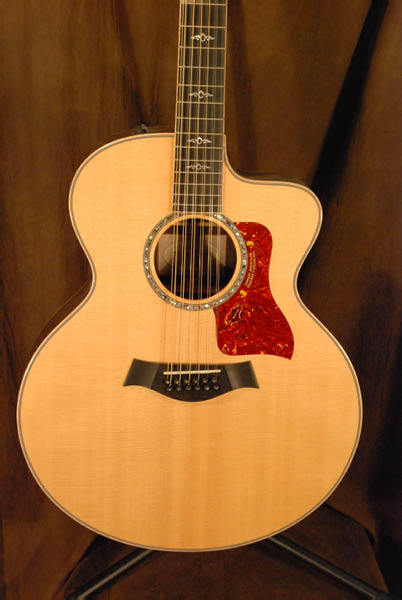guitar: (14, 1, 366, 554)
